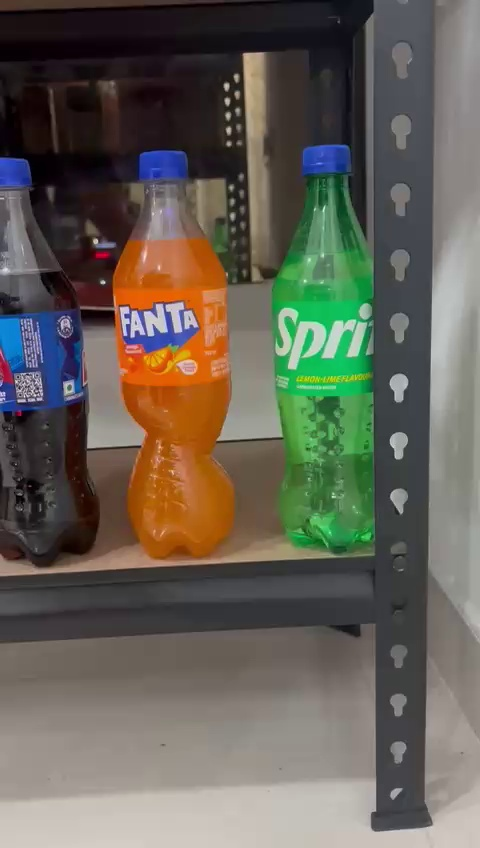Fanta: (104, 144, 254, 563)
Sprit: (261, 138, 380, 561)
